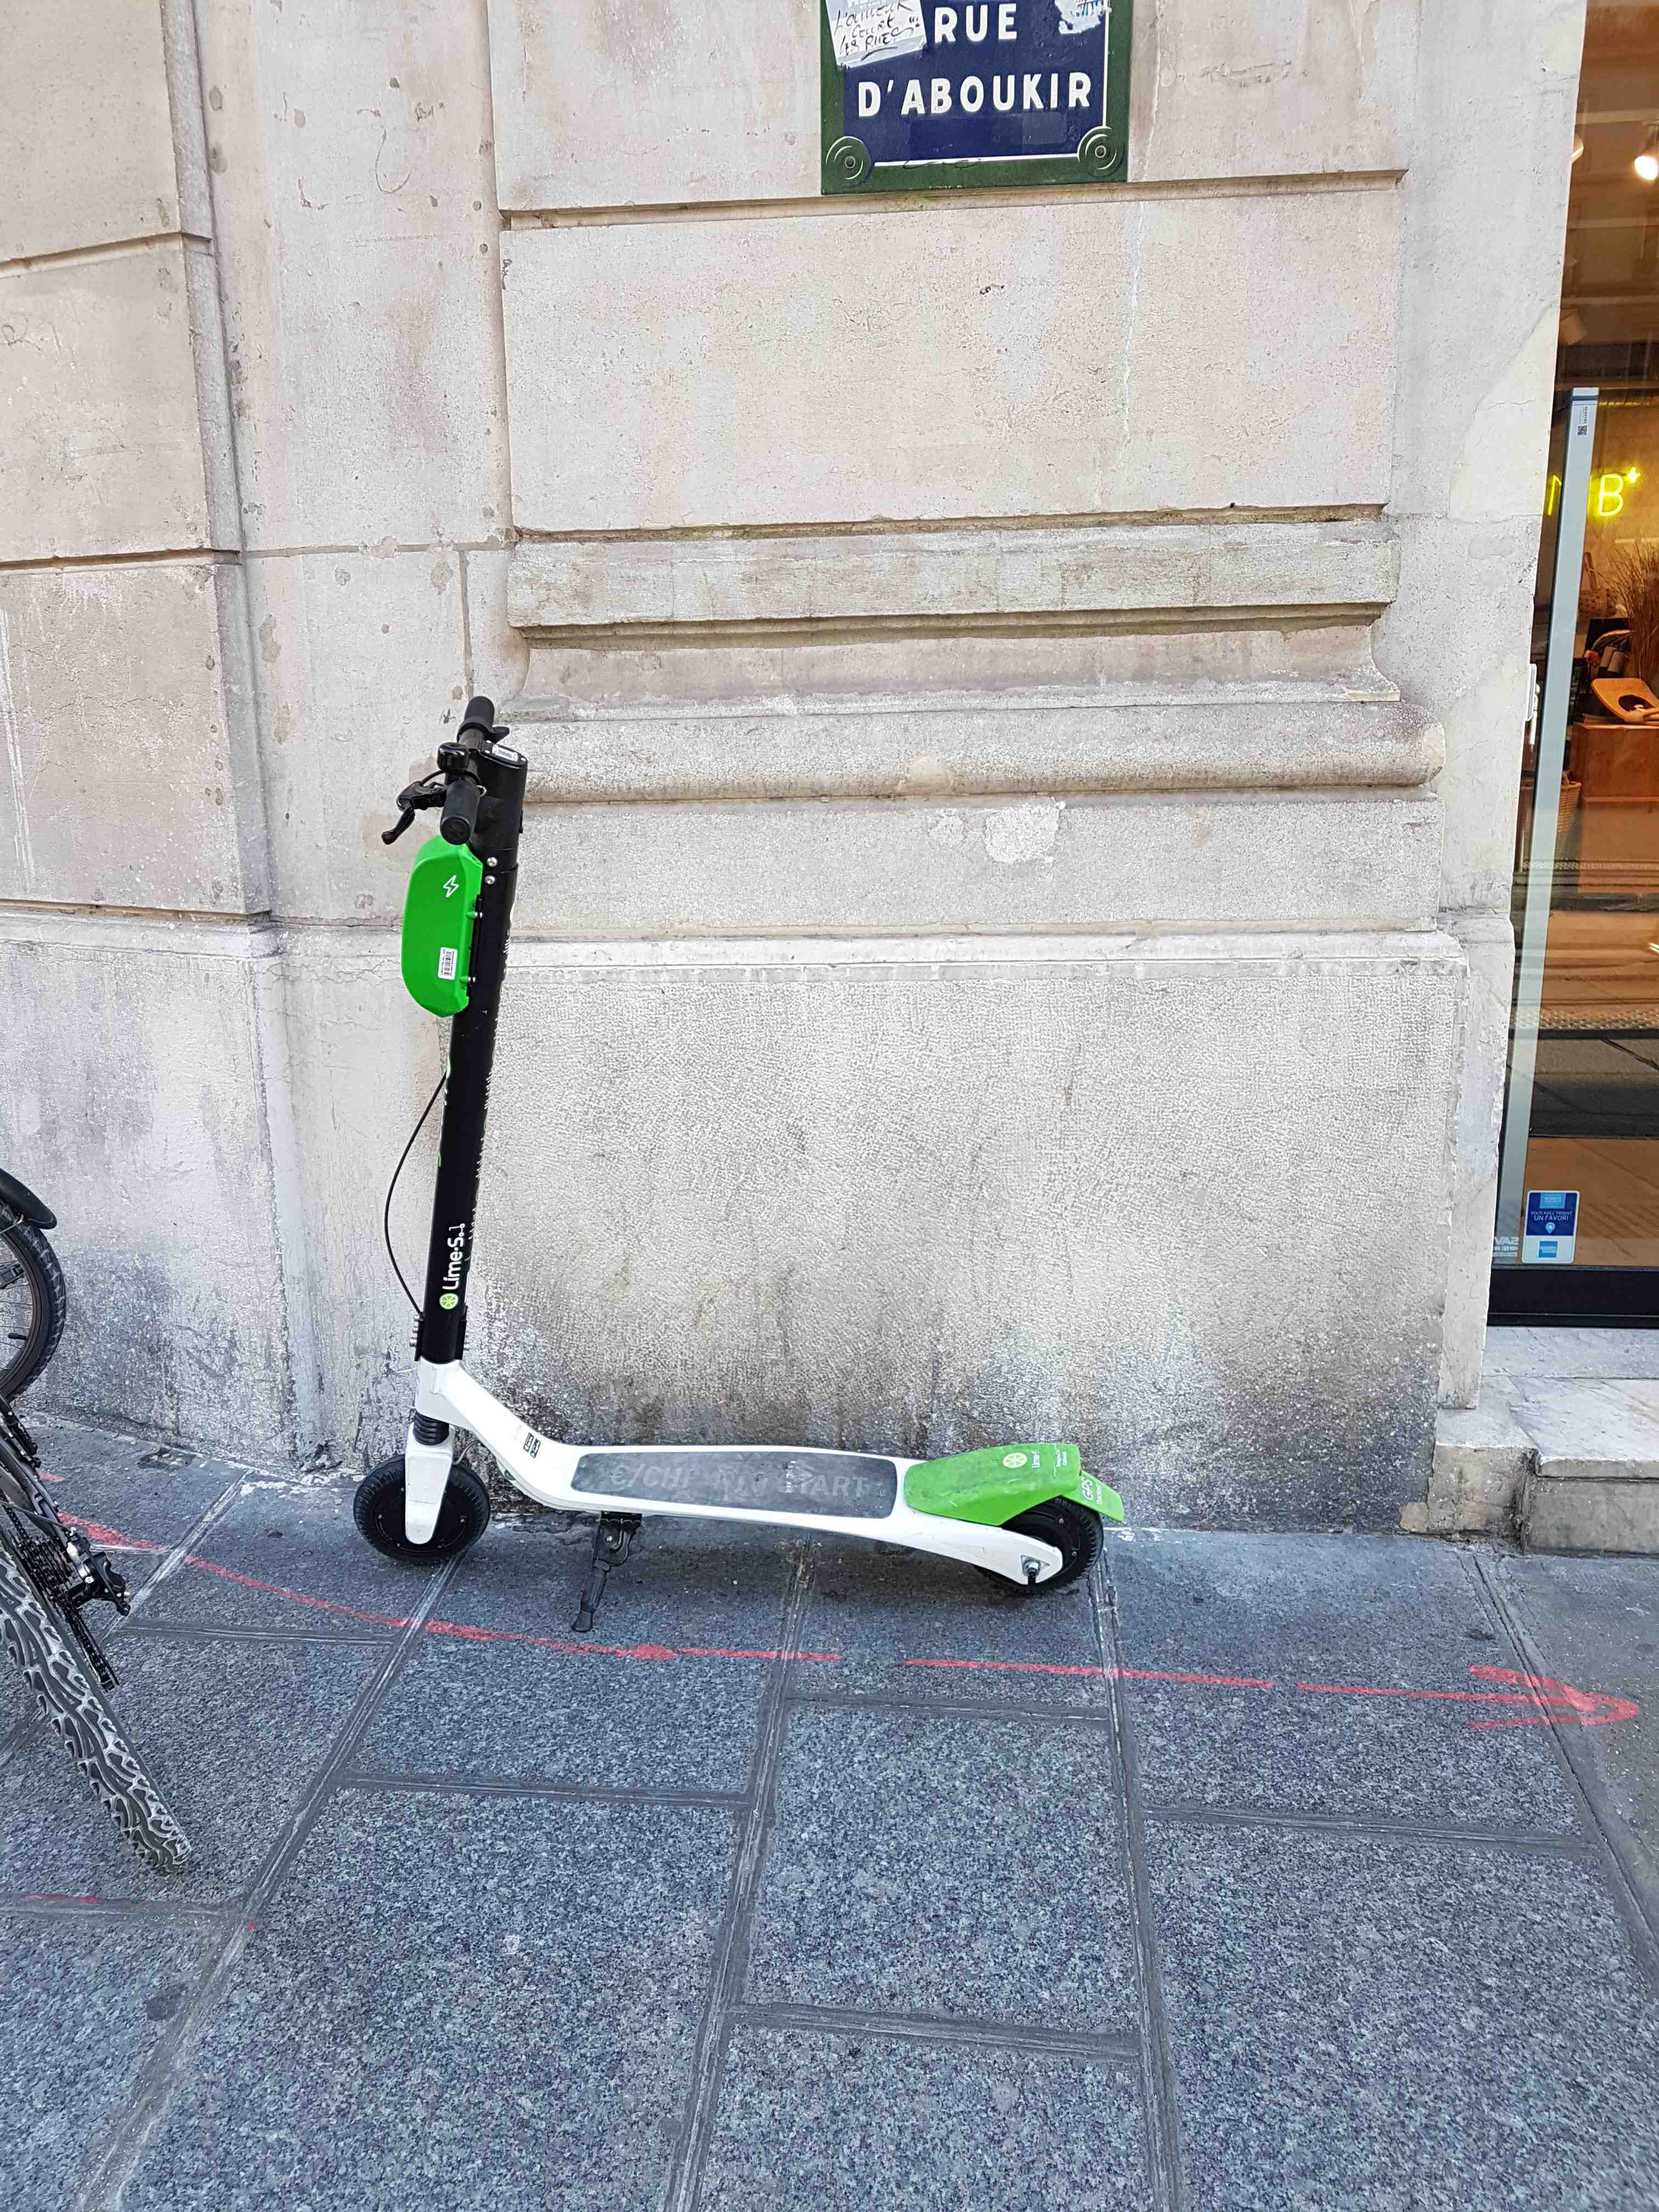scooter: (324, 646, 1126, 1611)
